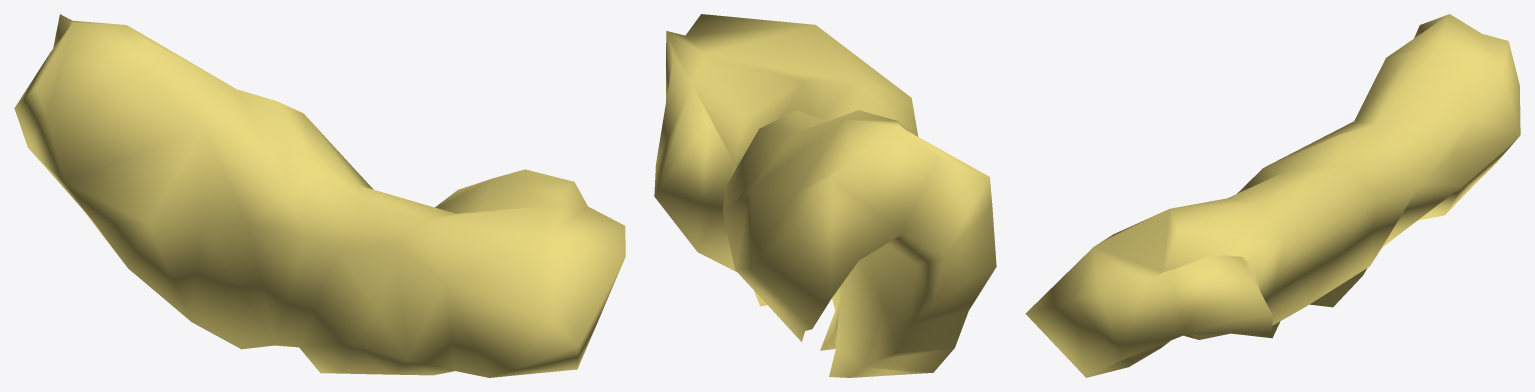
File: transverse-temporal-gyri-l.glb
3 views of the same model, side by side, from view 1: azimuth 30°, elevation 25°; view 2: azimuth 150°, elevation 25°; view 3: azimuth 270°, elevation 25° (orthographic). The views are drawn at different scales.
Parts seen in each view (by area): view 1: Transverse temporal gyri.l; view 2: Transverse temporal gyri.l; view 3: Transverse temporal gyri.l.
Part boxes in pixels (x1,y1,x2,y2): Transverse temporal gyri.l: (14, 14, 625, 377); Transverse temporal gyri.l: (654, 14, 996, 377); Transverse temporal gyri.l: (1025, 14, 1520, 377).
Bounding box in the file's own units: 0.0213 × 0.0144 × 0.0254.
